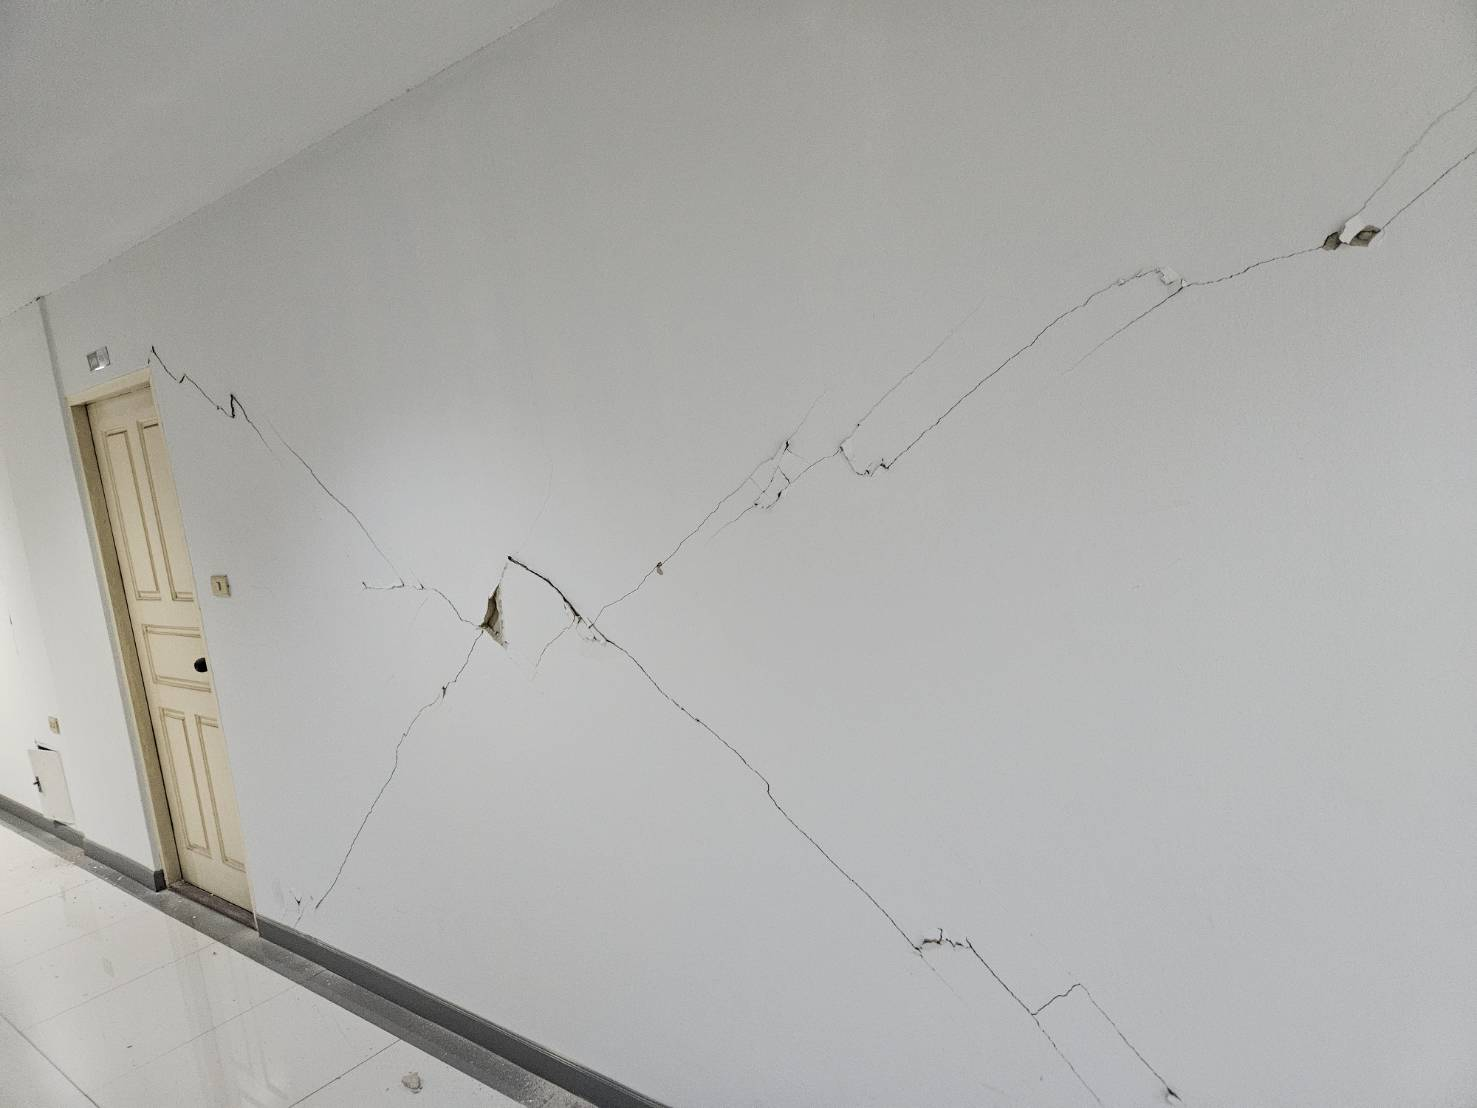Medium: (271, 383, 1193, 896)
